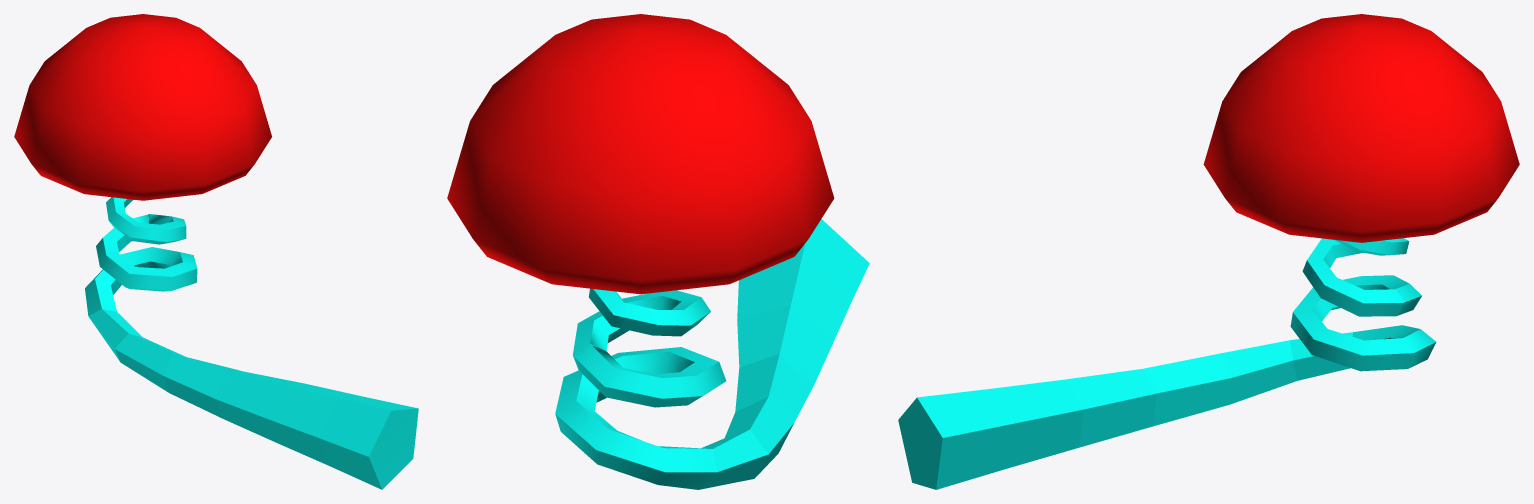
The model's file is Bounce_Wall_Mushroom.FBX.
3 views of the same model, side by side, from view 1: azimuth 30°, elevation 25°; view 2: azimuth 150°, elevation 25°; view 3: azimuth 270°, elevation 25° (orthographic). The views are drawn at different scales.
Parts seen in each view (by area): view 1: Bounce_Wall; view 2: Bounce_Wall; view 3: Bounce_Wall.
Boxes of the visible parts, x1,y1,x2,y2 form: Bounce_Wall: (14, 14, 418, 489); Bounce_Wall: (447, 14, 869, 489); Bounce_Wall: (898, 14, 1519, 489).
Size of the model in its own units: 786 by 1154 by 1544.
